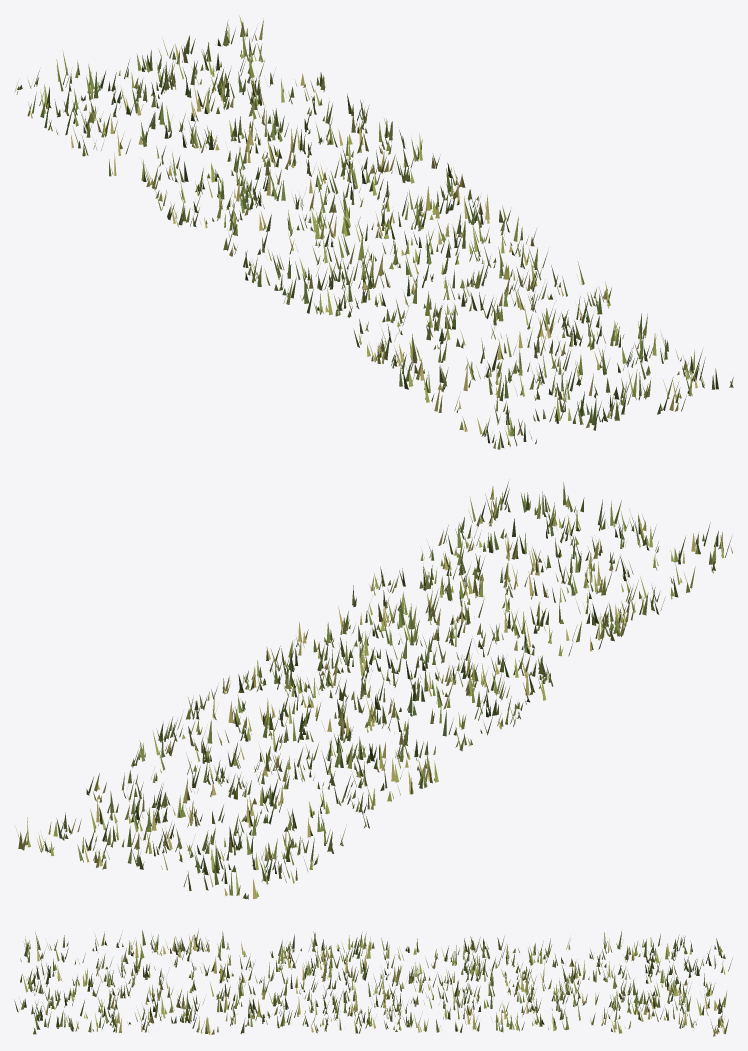
Rendered from Meadow_GrassPatch_03.obj.
3 renders of one model, top to bottom at view 1: azimuth 30°, elevation 25°; view 2: azimuth 150°, elevation 25°; view 3: azimuth 270°, elevation 25°, orthographic. The views are drawn at different scales.
Parts seen in each view (by area): view 1: Meadow_GrassPatch_03; view 2: Meadow_GrassPatch_03; view 3: Meadow_GrassPatch_03.
Boxes of the visible parts, box(x1,y1,x2,y2) form: Meadow_GrassPatch_03: box(14, 15, 733, 449); Meadow_GrassPatch_03: box(15, 481, 732, 899); Meadow_GrassPatch_03: box(14, 930, 732, 1036).
Bounding box in the file's own units: 3.71 × 0.4201 × 12.24.
Materials: 1 (1 with a texture image).
